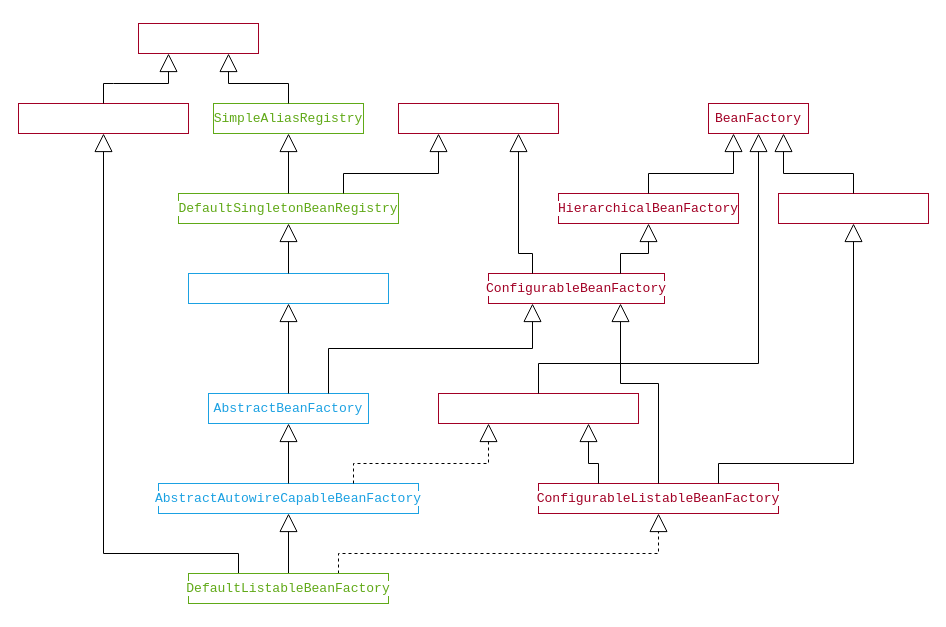
This 946x627 diagram has some shape labels left out. Here are the shapes that lost their labels. From the top down, the box of each, then its label:
(138, 22, 258, 54): AliasRegistry
(18, 102, 188, 134): BeanDefinitionRegistry
(398, 102, 558, 134): SingletonBeanRegistry
(778, 192, 928, 224): ListableBeanFactory
(188, 272, 388, 304): FactoryBeanRegistrySupport
(438, 392, 638, 424): AutowireCapableBeanFactory
